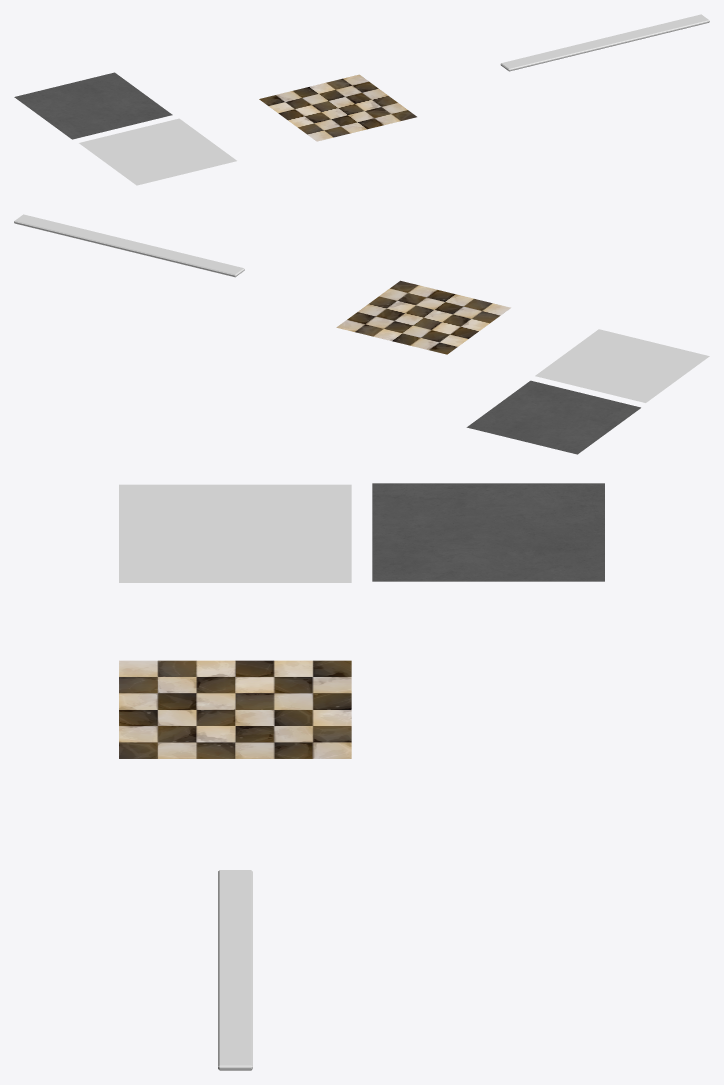
The model's file is Blender.fbx.
3 renders of one model, top to bottom at view 1: azimuth 30°, elevation 25°; view 2: azimuth 150°, elevation 25°; view 3: azimuth 270°, elevation 25°, orthographic. The views are drawn at different scales.
Visible parts, largest first — view 1: Plane, Plane.002, Plane.001, Plinthe_LowPoly; view 2: Plane.002, Plane.001, Plane, Plinthe_LowPoly; view 3: Plane, Plane.001, Plane.002, Plinthe_LowPoly.
Part boxes in pixels (x1=…): Plane: x1=259, y1=74, x2=416, y2=141; Plane.002: x1=14, y1=72, x2=172, y2=139; Plane.001: x1=79, y1=118, x2=236, y2=185; Plinthe_LowPoly: x1=500, y1=14, x2=709, y2=71; Plane.002: x1=466, y1=380, x2=640, y2=454; Plane.001: x1=535, y1=329, x2=709, y2=402; Plane: x1=336, y1=280, x2=510, y2=354; Plinthe_LowPoly: x1=14, y1=214, x2=244, y2=277; Plane: x1=119, y1=660, x2=351, y2=758; Plane.001: x1=119, y1=484, x2=351, y2=582; Plane.002: x1=372, y1=483, x2=604, y2=581; Plinthe_LowPoly: x1=218, y1=870, x2=252, y2=1070.
Bounding box in the file's own units: 1190 × 5 × 418.
4 materials, 2 textured.
